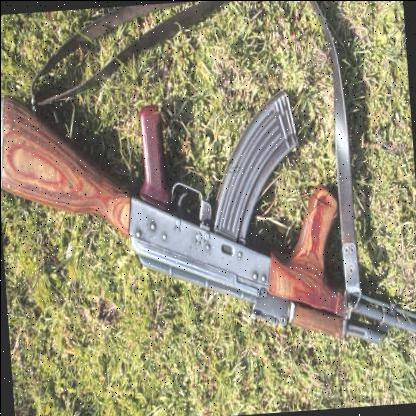rifle: (0, 59, 416, 408)
